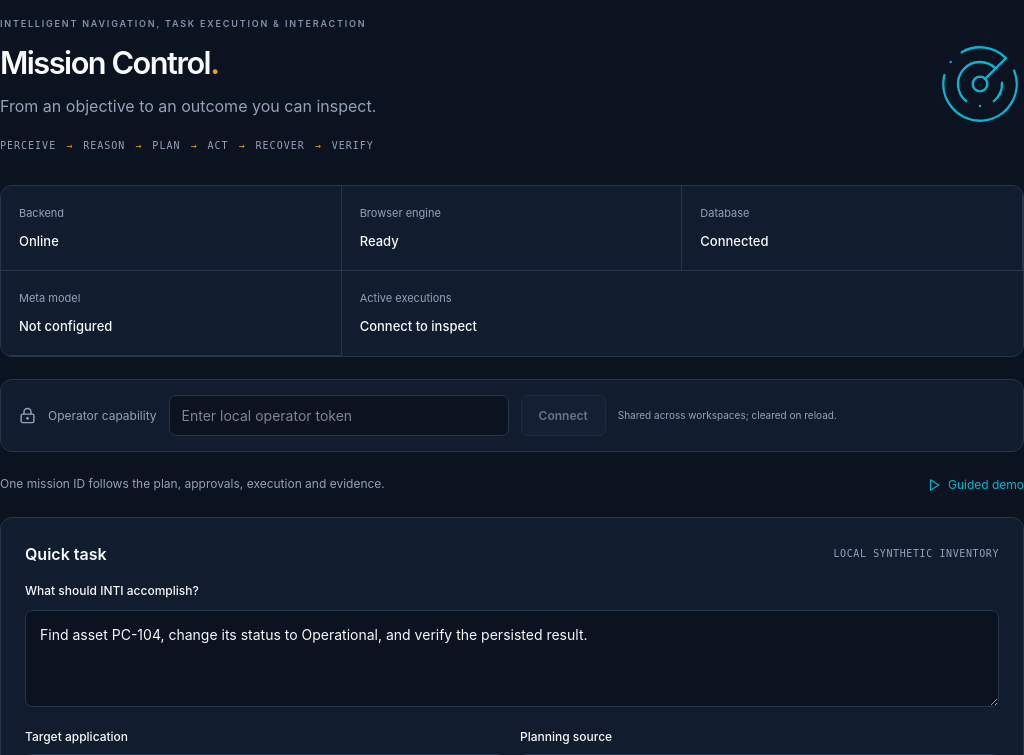
Test: announces backend failures without inventing a mission result
The image size is (1024, 755).
Type "explicit-test-only-capability" into the password field labelled "Operator capability" at (339, 416), box [169,395,509,436]
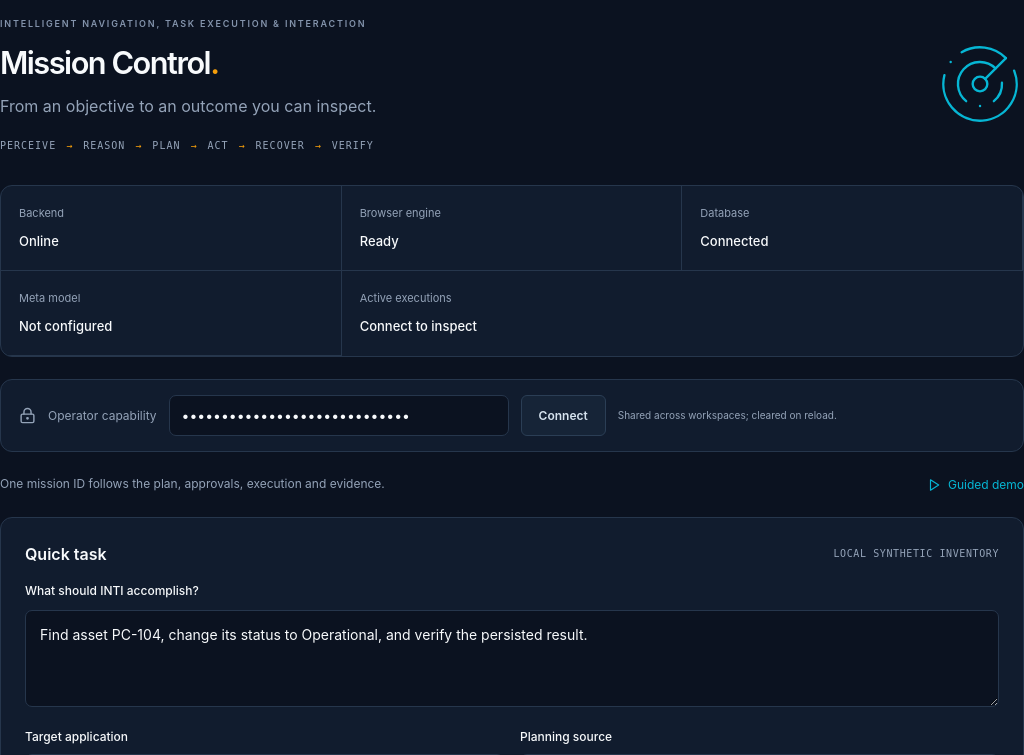
Click the button "Connect" at (563, 416), box [521,395,606,436]
(page scrolled)
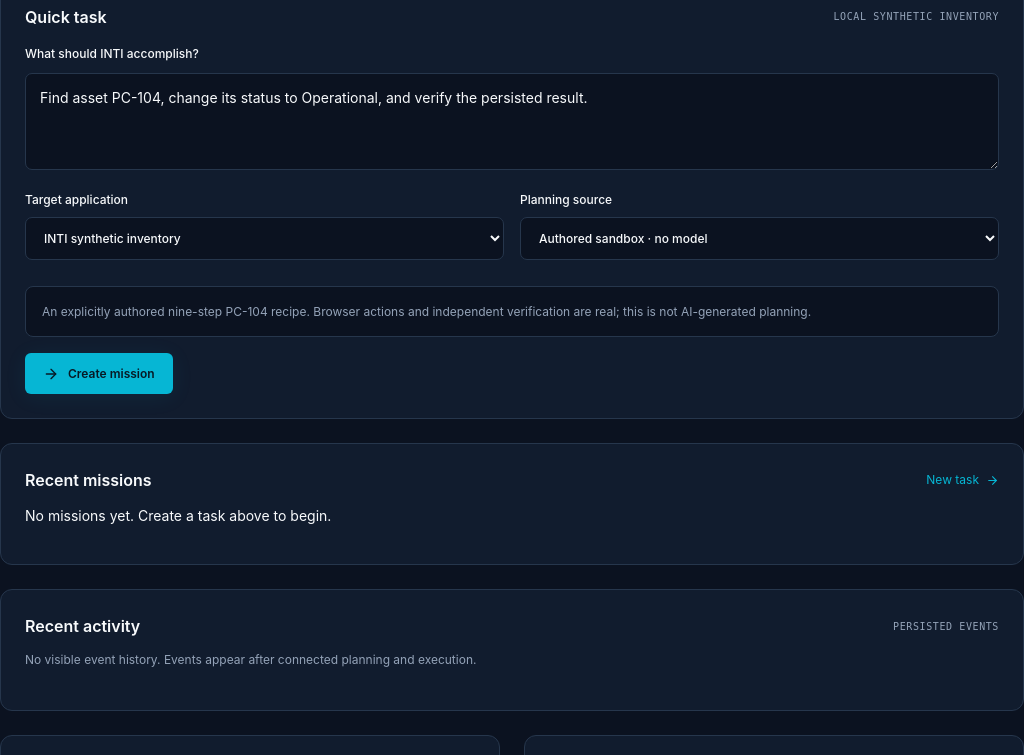
Expected: the text "No missions yet. Create a task above to begin." is shown, [25,507,331,524]
Click the button "Create mission" at (99, 374), box [25,353,173,394]
(page scrolled)
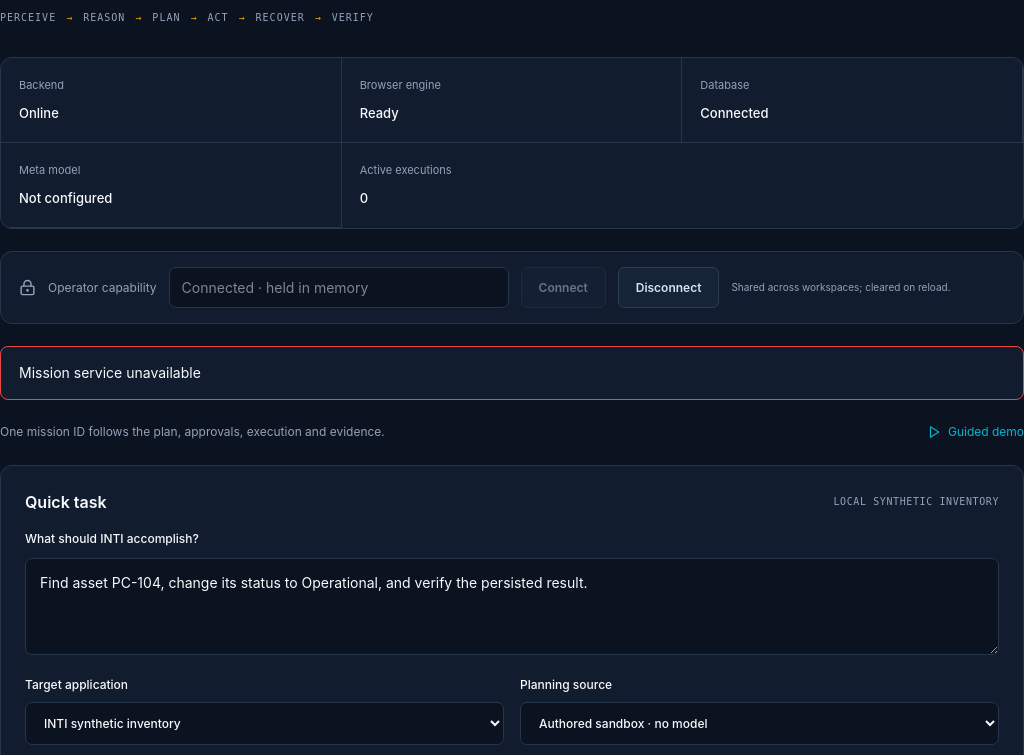
Expected: the message reads "Mission service unavailable", [19,364,201,381]
